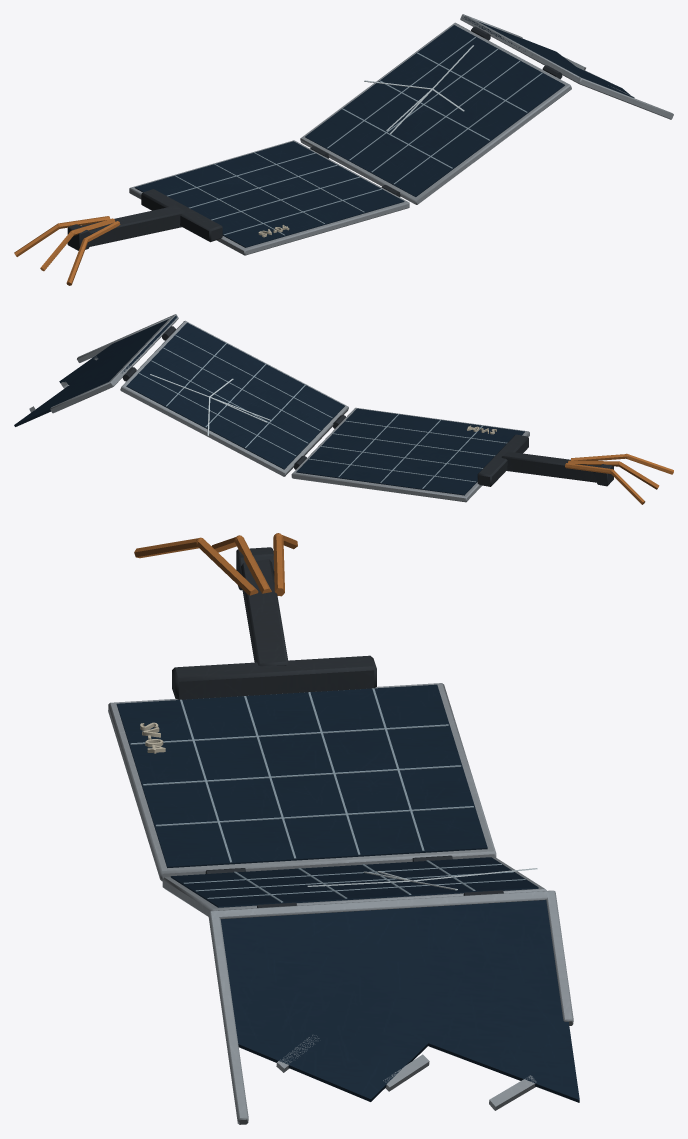
File: solar_wing_torn.glb
3 renders of one model, top to bottom at view 1: azimuth 30°, elevation 25°; view 2: azimuth 150°, elevation 25°; view 3: azimuth 270°, elevation 25°, orthographic. The views are drawn at different scales.
Visible parts, largest first — view 1: solar_wing_torn; view 2: solar_wing_torn; view 3: solar_wing_torn.
Part boxes in pixels (x1=…): solar_wing_torn: x1=14, y1=14, x2=673, y2=285; solar_wing_torn: x1=14, y1=314, x2=673, y2=504; solar_wing_torn: x1=108, y1=533, x2=579, y2=1124.
Bounding box in the file's own units: 5.13 × 0.575 × 1.81.
Materials: 7 (7 with a texture image).
